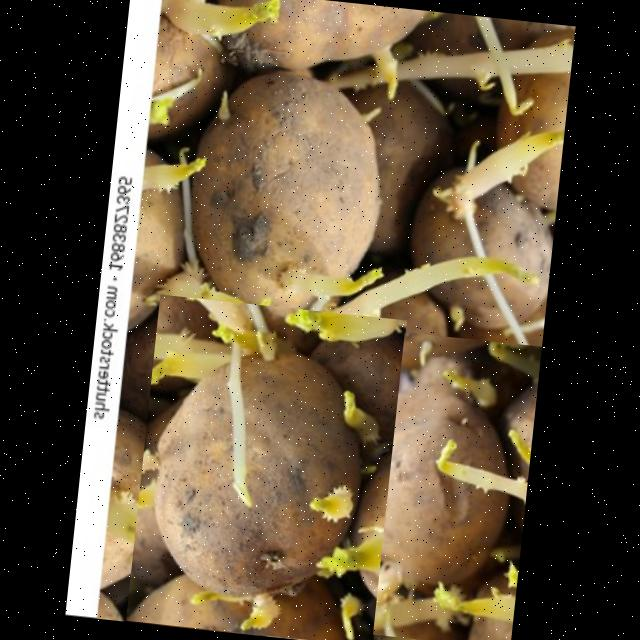Sprouted potato: (125, 293, 406, 640), (145, 22, 416, 378), (372, 331, 541, 640), (119, 244, 285, 442), (402, 160, 559, 335)
